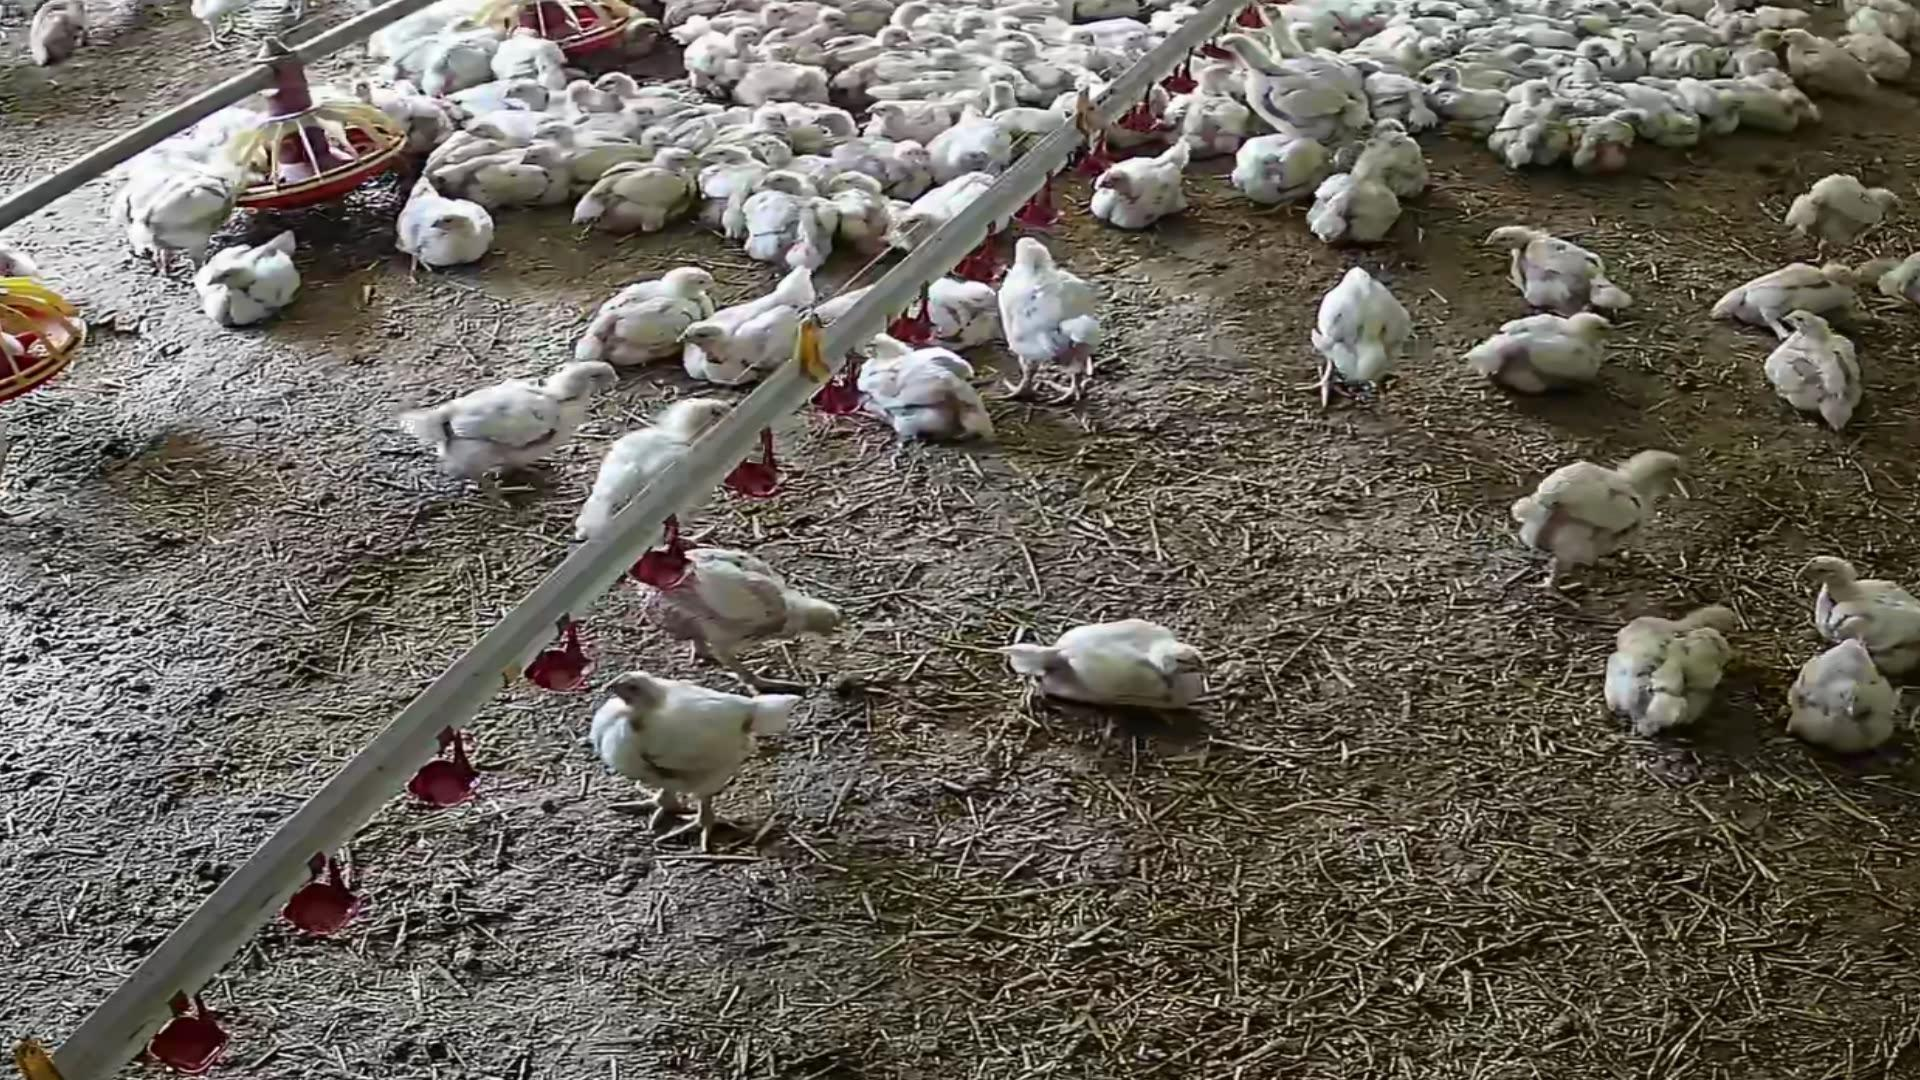poussin: (559, 673, 861, 880), (305, 352, 663, 481), (972, 620, 1262, 762), (612, 524, 877, 657), (1563, 600, 1755, 777), (1273, 270, 1490, 423), (1530, 425, 1713, 585), (845, 330, 1027, 485), (992, 247, 1142, 417), (550, 410, 756, 524), (580, 240, 728, 382), (372, 177, 538, 302), (1753, 285, 1890, 435), (1481, 309, 1656, 425), (1487, 204, 1660, 322), (690, 247, 832, 385), (185, 247, 353, 360), (1087, 119, 1212, 269), (1797, 638, 1920, 769), (1299, 128, 1419, 253), (1218, 34, 1362, 137), (116, 164, 248, 276), (1792, 560, 1920, 658), (1731, 227, 1865, 319), (1225, 131, 1342, 225), (587, 141, 712, 223), (1795, 161, 1909, 248), (1154, 51, 1253, 149), (1778, 18, 1874, 107), (456, 137, 563, 216), (0, 0, 102, 79), (166, 0, 278, 69), (749, 189, 841, 272), (349, 74, 446, 152), (980, 73, 1083, 145), (1418, 55, 1510, 135), (1503, 76, 1577, 175), (1567, 102, 1650, 189), (1346, 54, 1429, 137), (682, 25, 765, 104), (1613, 76, 1700, 152), (1722, 66, 1813, 135), (905, 179, 997, 247), (417, 18, 509, 83), (1671, 65, 1749, 141), (708, 148, 771, 237), (943, 109, 1021, 181), (836, 170, 901, 255), (998, 30, 1072, 102), (840, 137, 927, 194), (1356, 15, 1440, 73), (509, 25, 584, 84), (1588, 24, 1663, 83), (597, 70, 702, 112), (862, 92, 953, 138), (456, 71, 524, 133), (1648, 29, 1725, 80), (1261, 3, 1332, 57), (510, 74, 592, 116), (767, 11, 852, 51), (1403, 0, 1477, 44), (828, 24, 916, 58), (713, 0, 793, 38), (840, 59, 898, 103), (1730, 22, 1787, 57), (742, 107, 794, 142), (547, 112, 589, 153), (525, 131, 562, 177), (923, 40, 977, 70), (881, 3, 936, 32), (1900, 253, 1920, 316), (773, 169, 818, 196), (1539, 50, 1582, 76), (1503, 40, 1528, 65)
